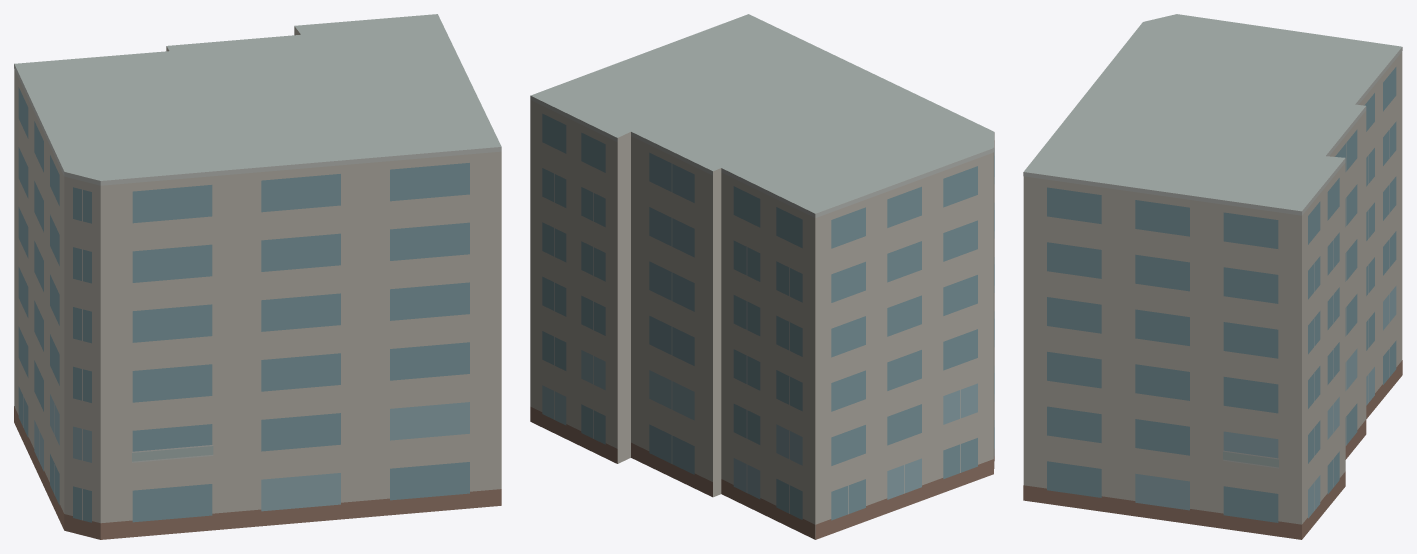
The model's file is survey-upis-32708228.glb.
3 views of the same model, side by side, from view 1: azimuth 30°, elevation 25°; view 2: azimuth 150°, elevation 25°; view 3: azimuth 270°, elevation 25° (orthographic). The views are drawn at different scales.
Visible parts, largest first — view 1: survey-upis-32708228.tmp; view 2: survey-upis-32708228.tmp; view 3: survey-upis-32708228.tmp.
Part boxes in pixels (bbox=[...]): survey-upis-32708228.tmp: bbox=[14, 14, 501, 539]; survey-upis-32708228.tmp: bbox=[530, 14, 994, 539]; survey-upis-32708228.tmp: bbox=[1023, 14, 1402, 539].
Size of the model in its own units: 23.58 by 18.3 by 19.14.
